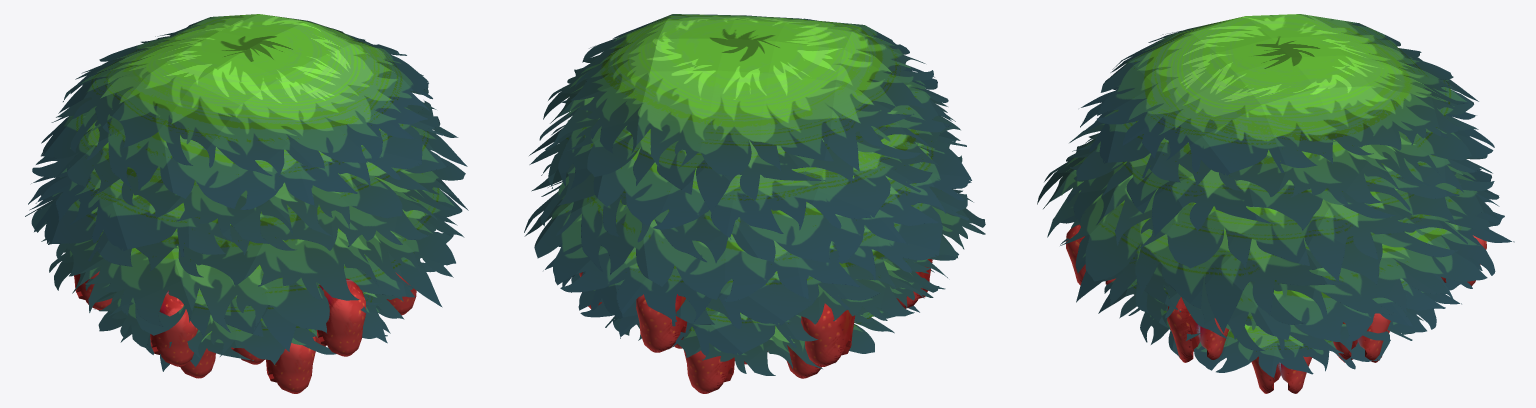
Rendered from SnappingStrawberry.fbx.
The picture shows the model from 3 angles, left to right: view 1: azimuth 30°, elevation 25°; view 2: azimuth 150°, elevation 25°; view 3: azimuth 270°, elevation 25°; orthographic projection. The views are drawn at different scales.
Parts seen in each view (by area): view 1: StrawberryBush, Strawberry.010, Strawberry.008, Strawberry.002, Strawberry.003, Strawberry.007; view 2: StrawberryBush, Strawberry.007, Strawberry.009, Strawberry.001, Strawberry.003; view 3: StrawberryBush, Strawberry.005, Strawberry.004, Strawberry.006, Strawberry.010.
Boxes of the visible parts, x1,y1,x2,y2 form: StrawberryBush: (25,14,468,371); Strawberry.010: (316,278,366,356); Strawberry.008: (150,290,197,366); Strawberry.002: (266,336,315,393); Strawberry.003: (179,348,215,378); Strawberry.007: (74,271,112,310); StrawberryBush: (524,14,985,375); Strawberry.007: (801,303,855,366); Strawberry.009: (636,294,687,352); Strawberry.001: (684,350,734,393); Strawberry.003: (787,345,821,378); StrawberryBush: (1037,14,1514,379); Strawberry.005: (1167,297,1228,360); Strawberry.004: (1251,356,1311,393); Strawberry.006: (1333,313,1390,360); Strawberry.010: (1066,224,1115,285).
Size of the model in its own units: 43.89 by 32.3 by 46.25.
